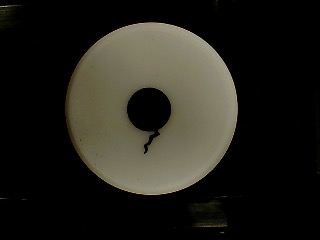CRACK: (66, 21, 239, 196)
